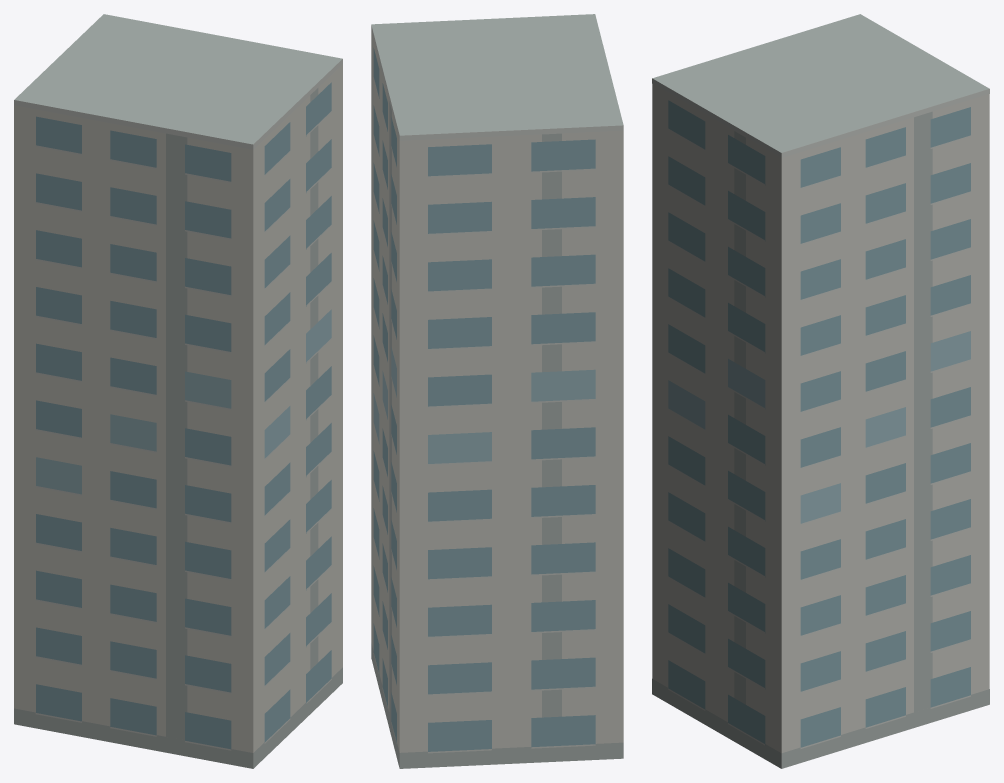
The model's file is residential-96707407-a961-4134-9b6f-eae60c27d19c.glb.
The picture shows the model from 3 angles, left to right: view 1: azimuth 30°, elevation 25°; view 2: azimuth 150°, elevation 25°; view 3: azimuth 270°, elevation 25°; orthographic projection. The views are drawn at different scales.
Visible parts, largest first — view 1: residential-96707407-a961-4134-9b6f-eae60c27d19c.tmp; view 2: residential-96707407-a961-4134-9b6f-eae60c27d19c.tmp; view 3: residential-96707407-a961-4134-9b6f-eae60c27d19c.tmp.
Part boxes in pixels (x1,y1,x2,y2): residential-96707407-a961-4134-9b6f-eae60c27d19c.tmp: [14, 14, 342, 768]; residential-96707407-a961-4134-9b6f-eae60c27d19c.tmp: [371, 14, 623, 768]; residential-96707407-a961-4134-9b6f-eae60c27d19c.tmp: [652, 14, 989, 768].
Size of the model in its own units: 14.05 by 29 by 14.41.
